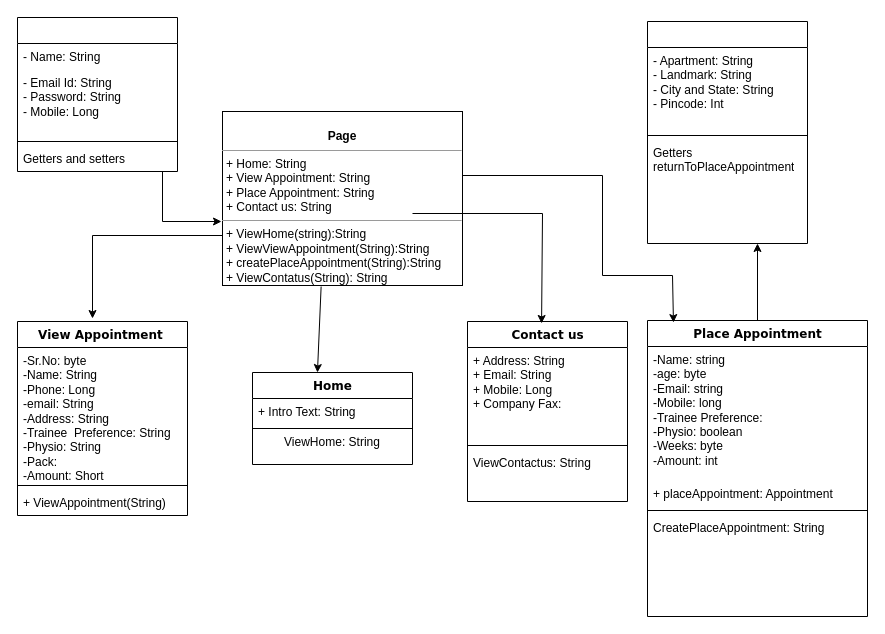
Some shapes in this 885 by 634 pixel diagram are drawn without their labels. Here are the shapes that lost their labels. From the top down, the box of each, then its label:
(16, 16, 178, 172): User
(646, 20, 808, 244): Address
